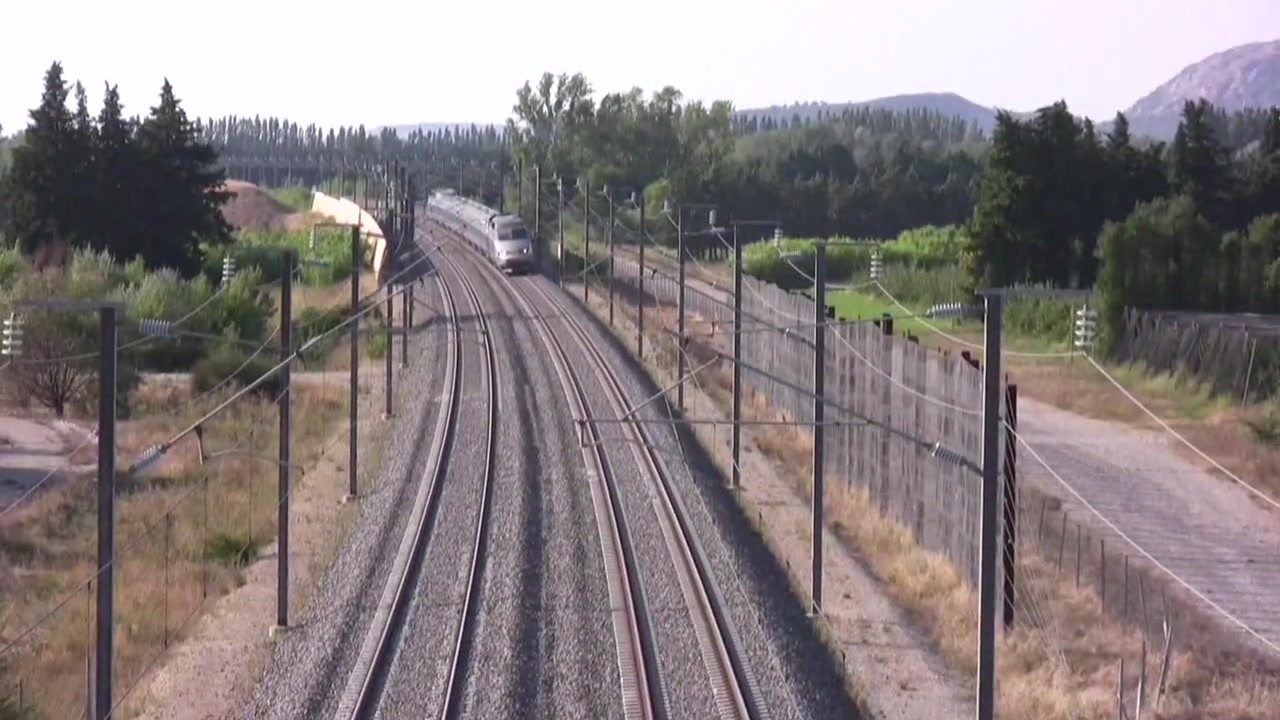train: (420, 182, 539, 278)
